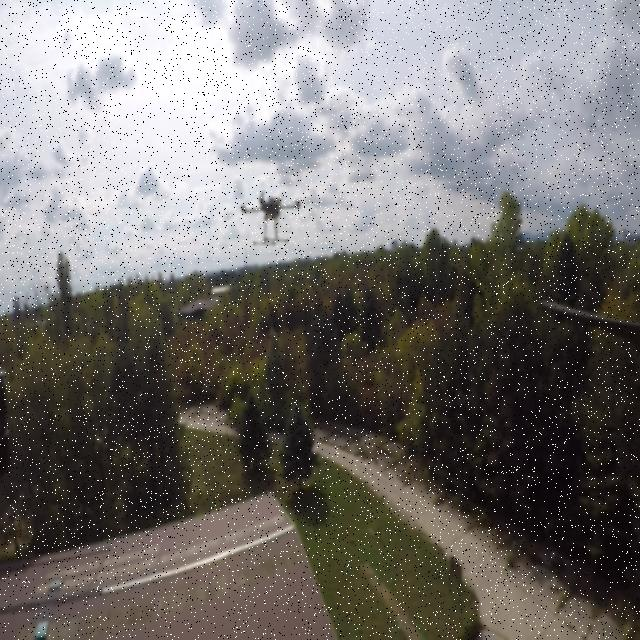UAV: (231, 178, 312, 252)
